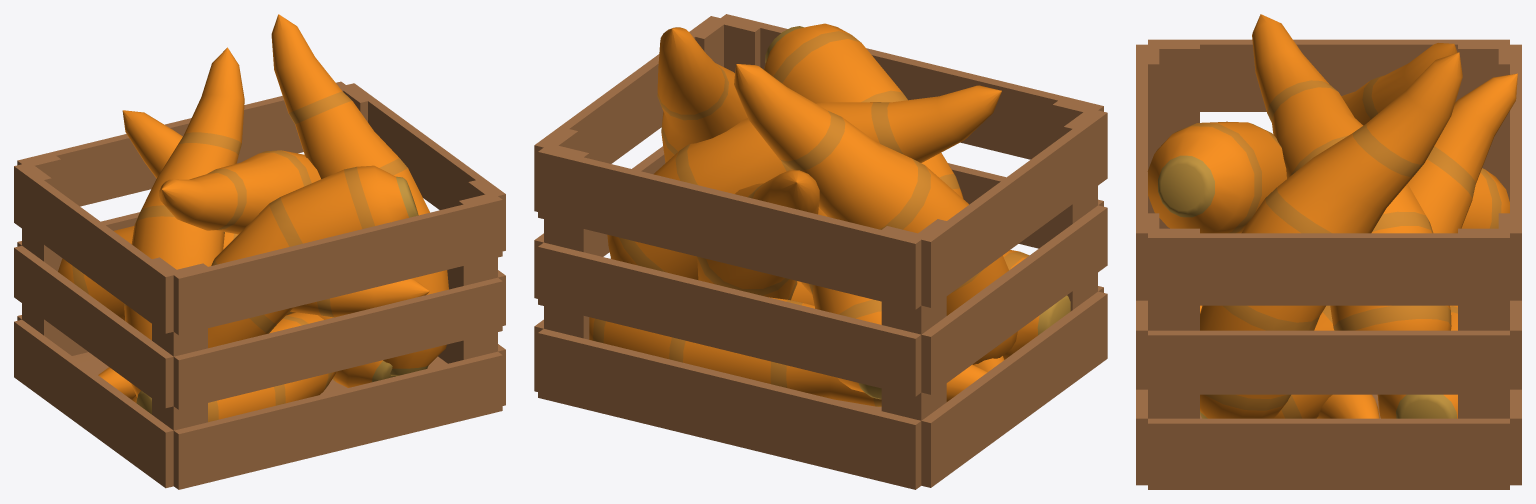
File: ASFTR_CrateCarrot.fbx
3 renders of one model, left to right at view 1: azimuth 30°, elevation 25°; view 2: azimuth 150°, elevation 25°; view 3: azimuth 270°, elevation 25°, orthographic. The views are drawn at different scales.
Visible parts, largest first — view 1: ASFTR_CrateCarrot; view 2: ASFTR_CrateCarrot; view 3: ASFTR_CrateCarrot.
Boxes of the visible parts, left/top/right/bottom form: ASFTR_CrateCarrot: left=14, top=14, right=505, bottom=489; ASFTR_CrateCarrot: left=534, top=14, right=1107, bottom=489; ASFTR_CrateCarrot: left=1136, top=14, right=1521, bottom=489.
Size of the model in its own units: 97.16 by 87.16 by 79.91.
